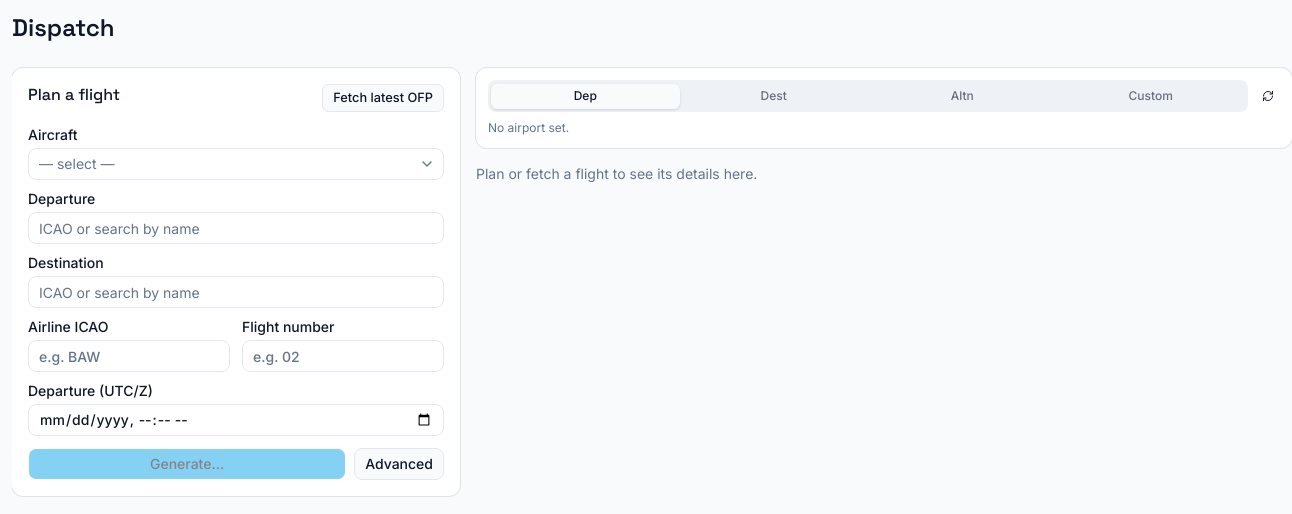
DispatchView › selecting an aircraft to plan with › falls back to the last completed flight's arrival airport when currentIcao is unset
Step 1. Click the dropdown → (77, 164), box [28,148,444,180]
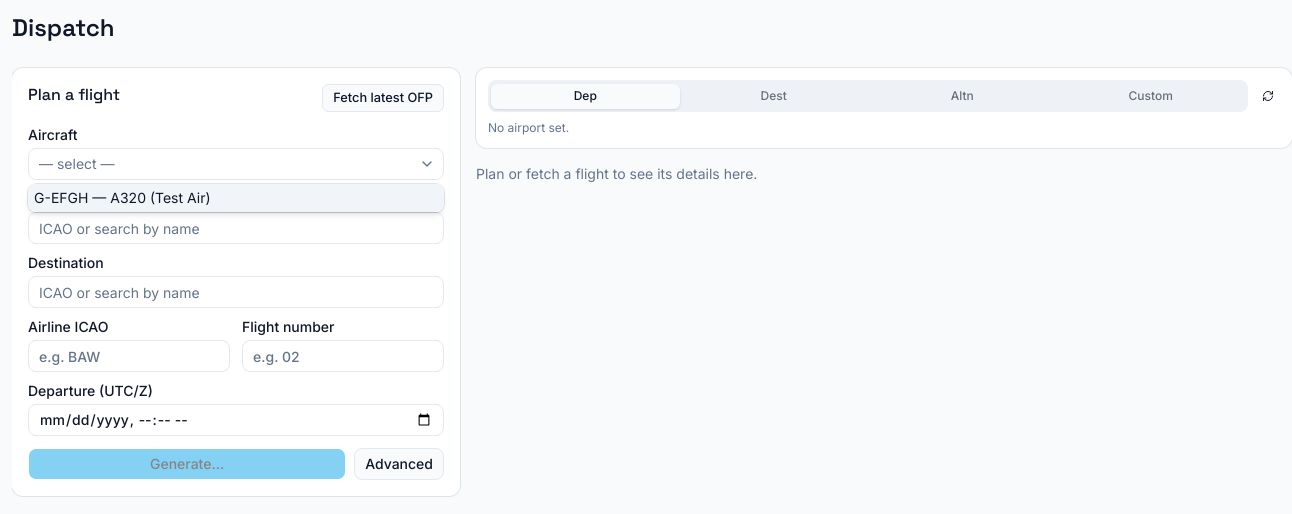
Step 2. Click the option "G-EFGH — A320 (Test Air)" → (122, 198), box [28,184,444,212]
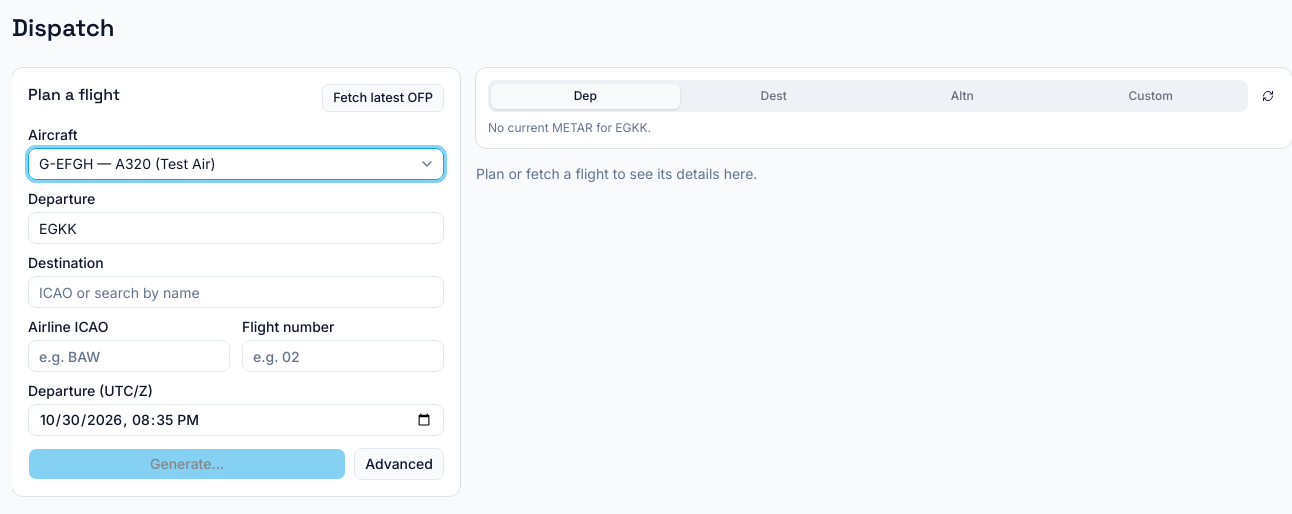
Expected: the field with placeholder "e.g. BAW" is empty, [28,340,230,372]
Result: the 1st field holds "EGKK" at [28,212,444,244]
